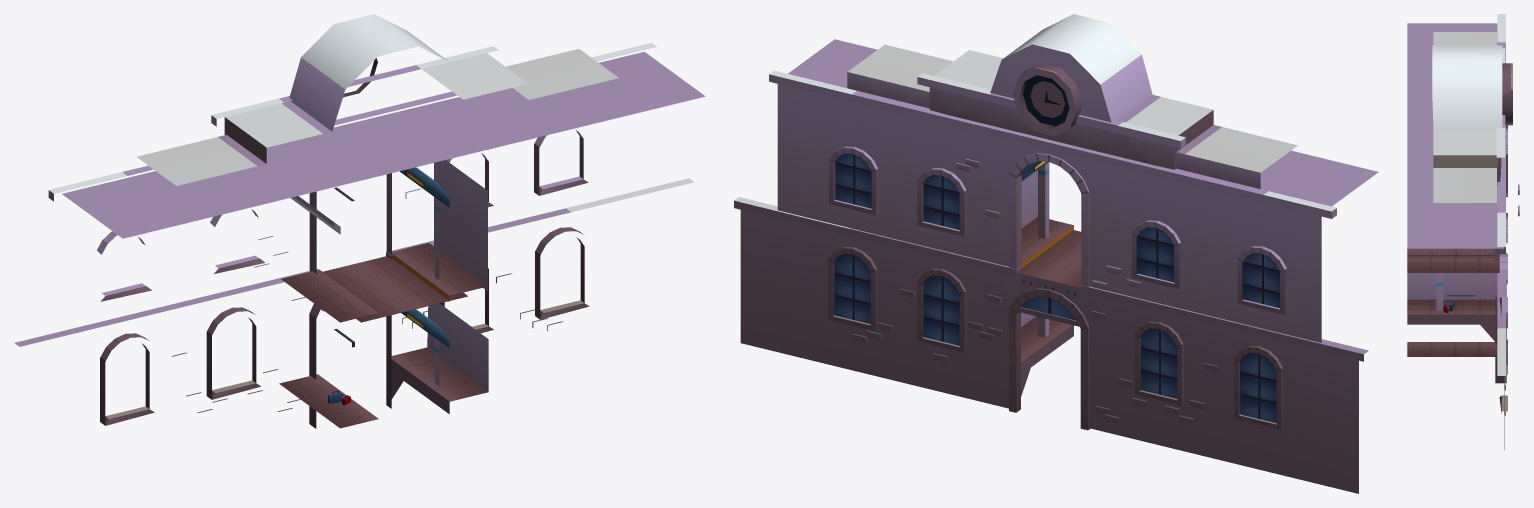
The model's file is 1.100_SanFrancisco_station_start.glb.
The picture shows the model from 3 angles, left to right: view 1: azimuth 30°, elevation 25°; view 2: azimuth 150°, elevation 25°; view 3: azimuth 270°, elevation 25°; orthographic projection. The views are drawn at different scales.
Parts seen in each view (by area): view 1: 1.100_SanFrancisco_station_start; view 2: 1.100_SanFrancisco_station_start; view 3: 1.100_SanFrancisco_station_start.
Part boxes in pixels (bbox=[...]): 1.100_SanFrancisco_station_start: bbox=[14, 14, 705, 428]; 1.100_SanFrancisco_station_start: bbox=[734, 14, 1378, 493]; 1.100_SanFrancisco_station_start: bbox=[1407, 14, 1519, 450].
Bounding box in the file's own units: 572 × 321 × 104.
3 materials, 3 textured.
